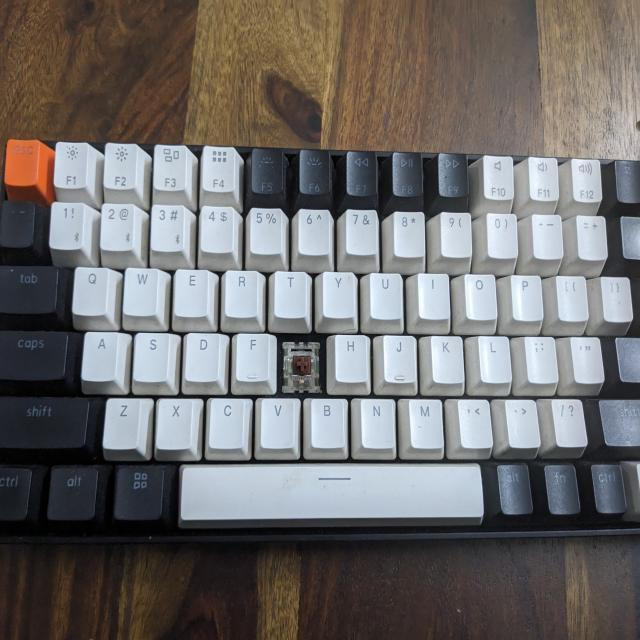key-switch: (279, 339, 326, 387)
